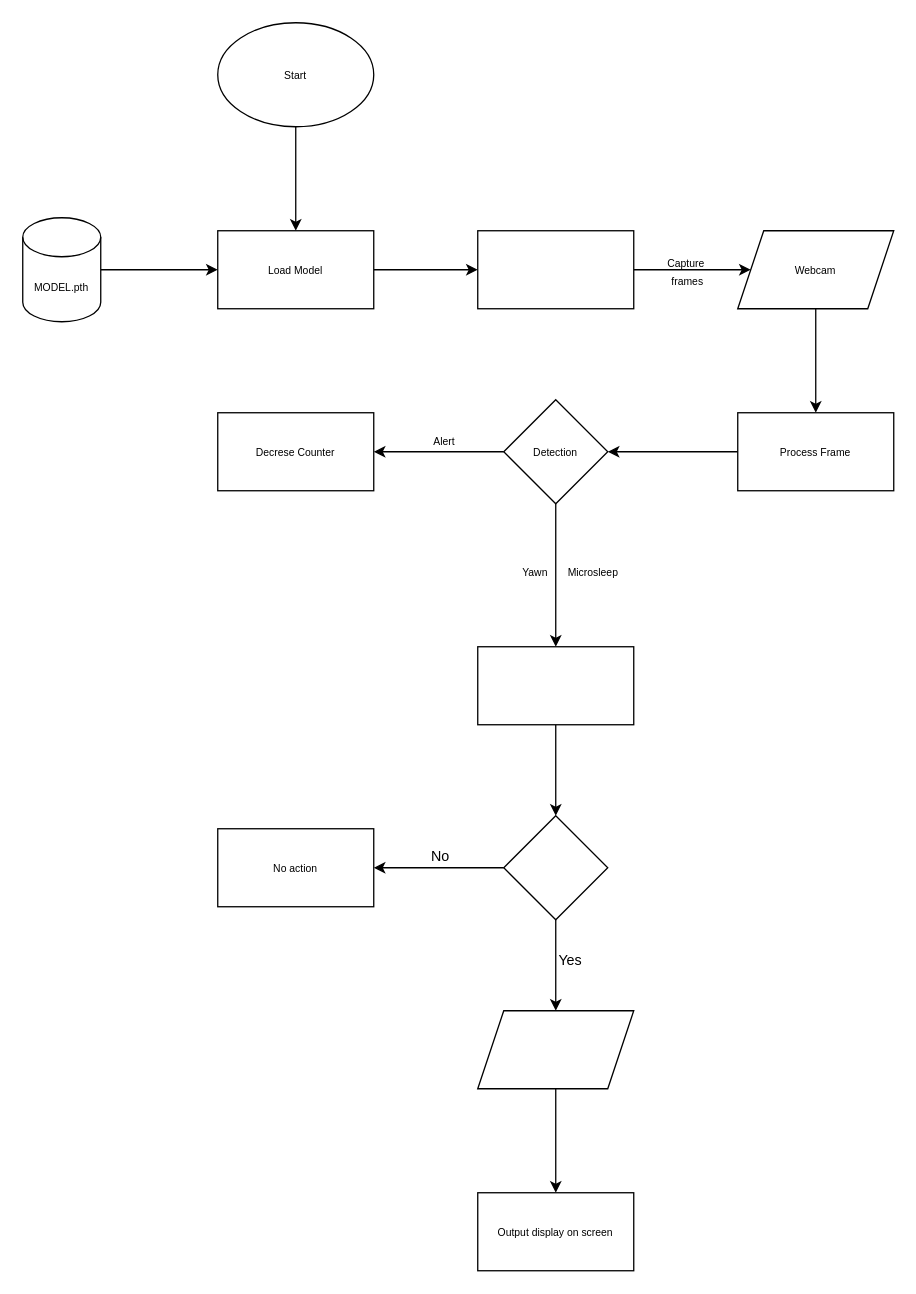
Some shapes in this 916 by 1294 pixel diagram are drawn without their labels. The shapes that lost their labels are listed below. From the top down, each one's centre as x and y in pixels, then its label:
At [555,269]: "Initialize Yawn & Sleep Counter".
At [555,685]: "Increase counter".
At [555,867]: "Threshold".
At [555,1049]: "Alert user Fatigue".
